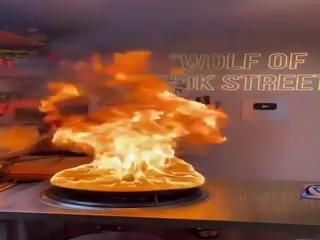Fire: (34, 66, 212, 194)
